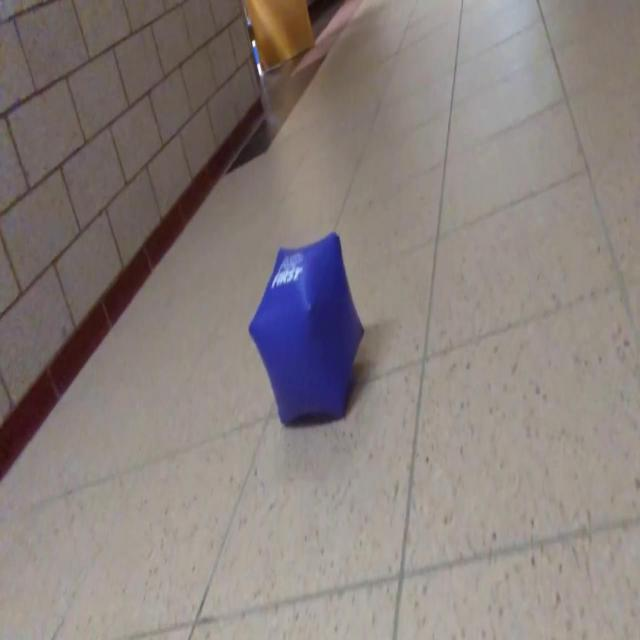frc_cube: (246, 230, 364, 428)
